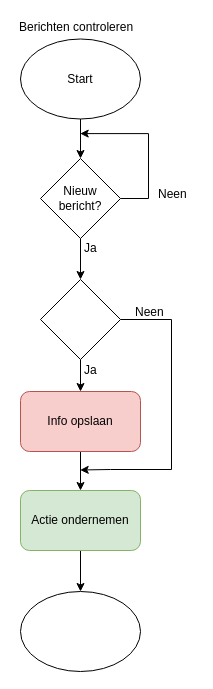
Image size: 213x689. Some labels were removed from this diagram. The shapes that lost their labels are listed below. From the top down, each one's centre as x and y in pixels, then its label:
the point at 80,319: Info opslaan?
the point at 80,631: Einde
